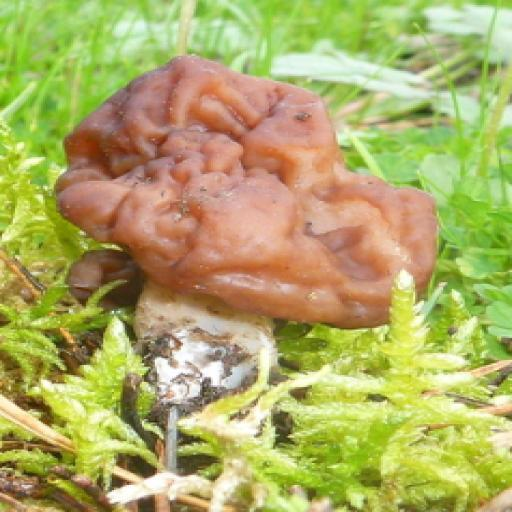mushroom: (38, 0, 464, 422)
